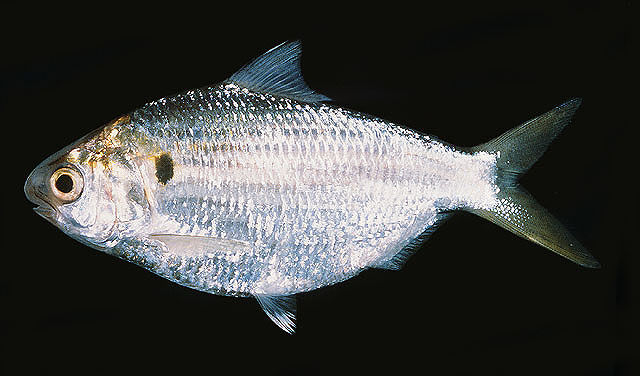fish: (24, 40, 602, 337)
